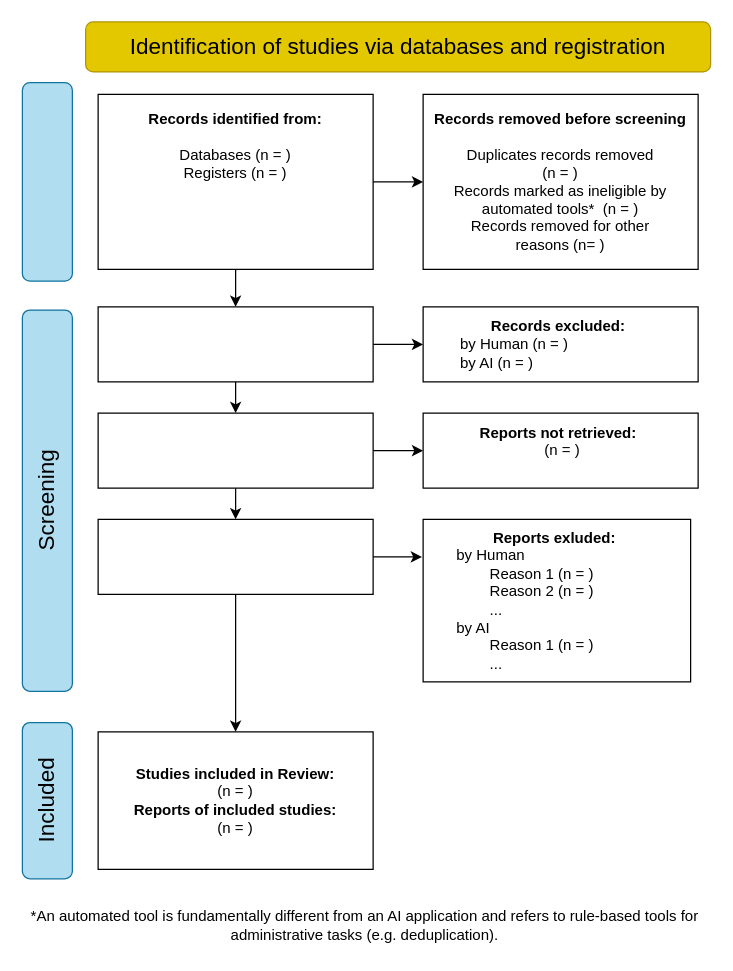
Image size: 733x971. Some labels were removed from this diagram. The shapes that lost their labels are listed below. From the top down, each one's centre as x and y in pixels, then its label:
point 46,181: Identification
point 235,344: Records screenend: (n = )
point 235,450: Reports sought for retrival: (n = )
point 235,556: Reports assessed for eligibility: (n = )
